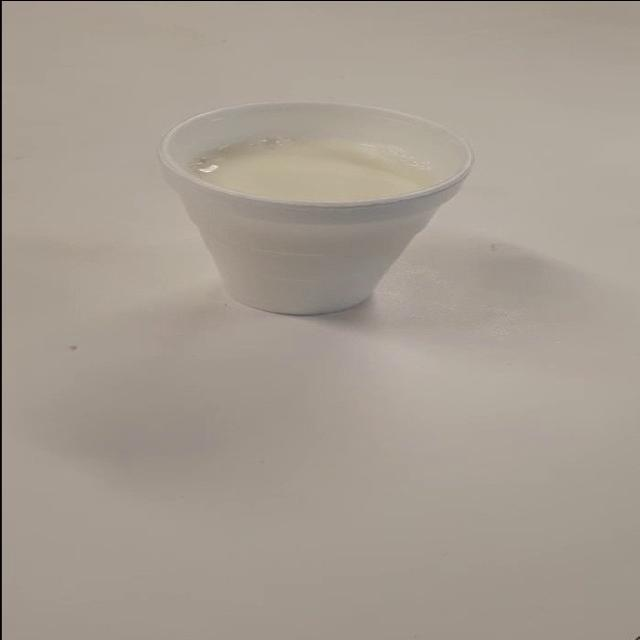Milk: (151, 99, 521, 333)
